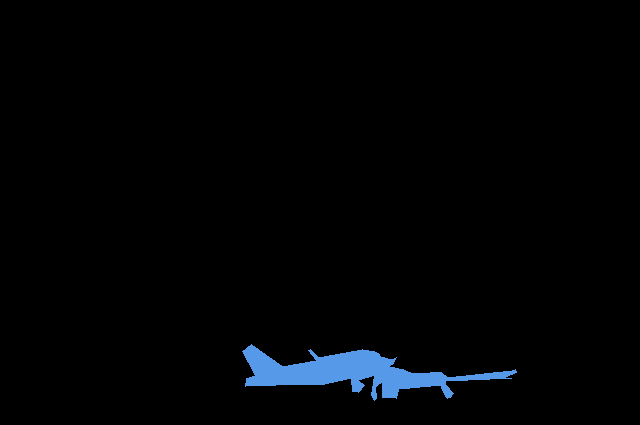Airplane: (242, 344, 517, 400)
